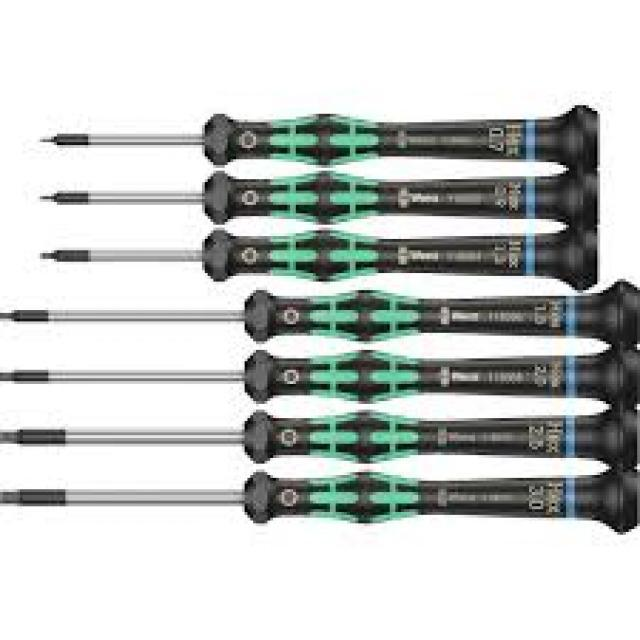screwdriver: (0, 276, 640, 347), (0, 466, 640, 535), (34, 98, 603, 169), (0, 344, 640, 407), (0, 406, 640, 466), (29, 226, 602, 286), (32, 170, 604, 224)
